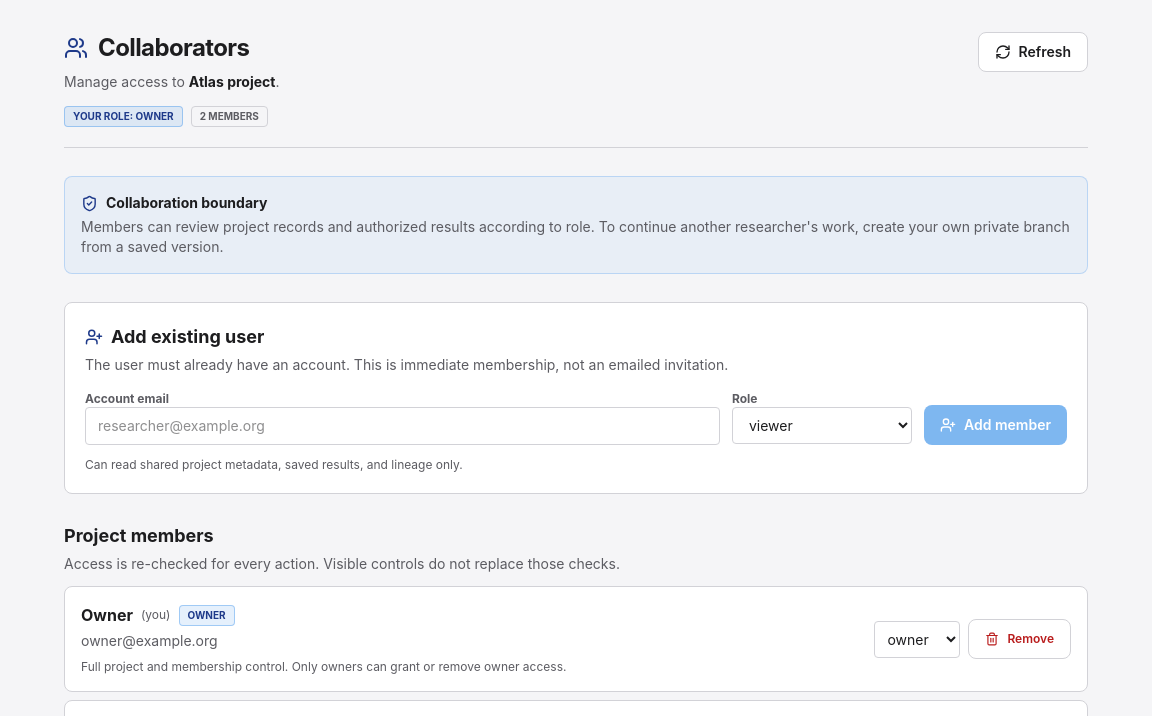
it: Collaborators › shows backend permission conflicts and refreshes authoritative member state
This screenshot has width=1152, height=716.
Check: the text "owner@example.org" is shown, box [81,632,218,649]
Select "admin" in the dropdown named "Role for owner@example.org" at {"x": 917, "y": 639}, box [874,620,960,658]
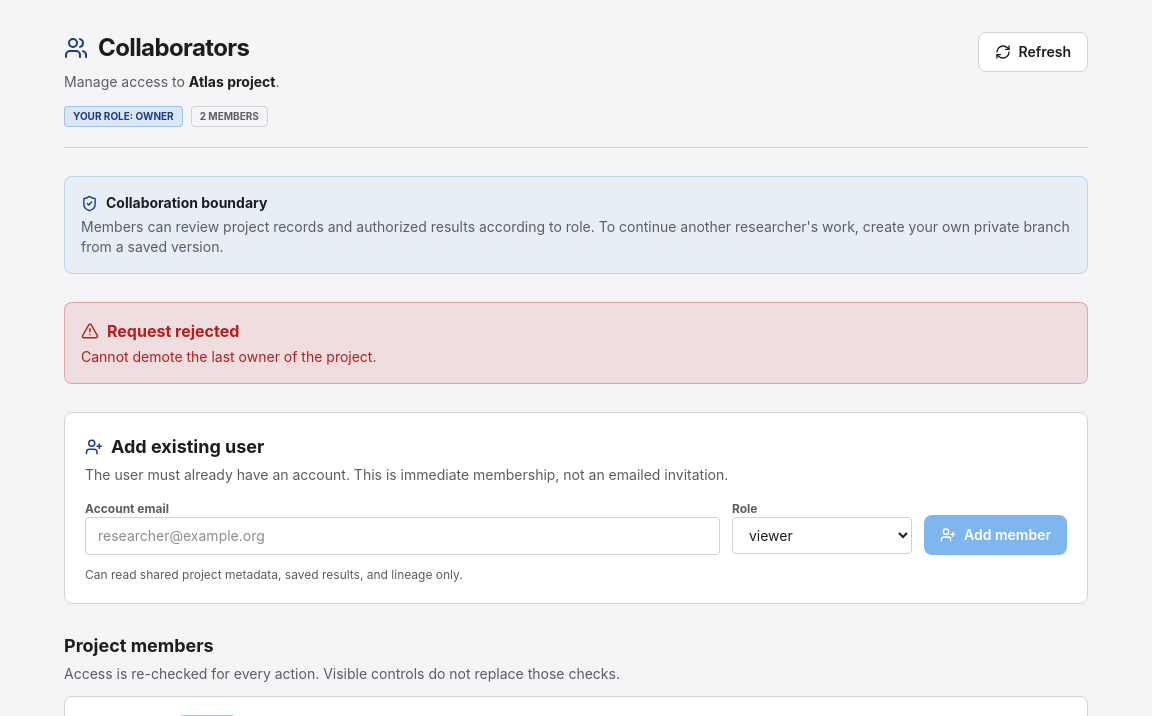
Check: the message shows "last owner", box [81,348,376,365]
